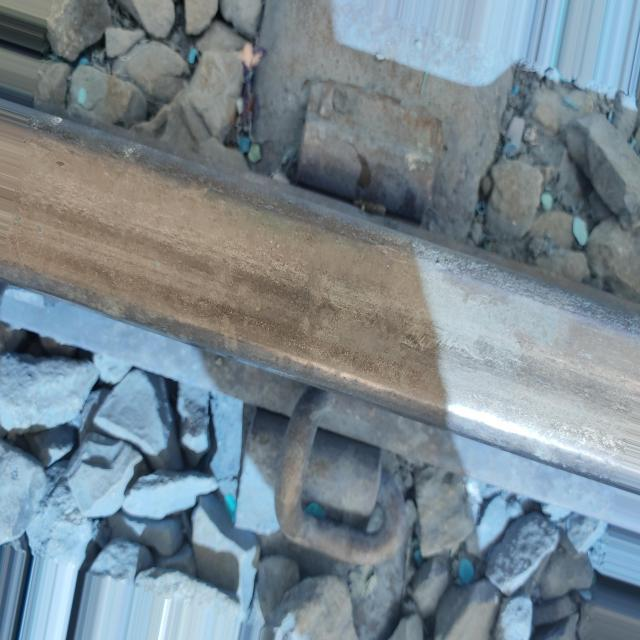Good Fasteners: (221, 372, 437, 592)
Missing Fastener: (280, 61, 447, 222)
